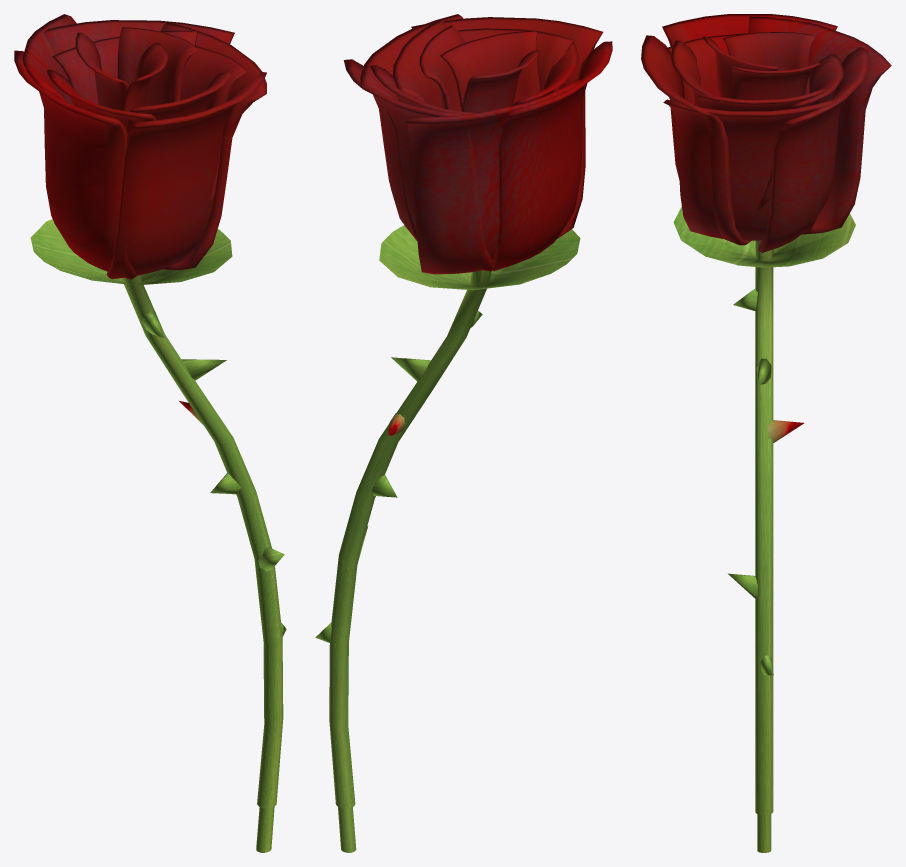
Rendered from item_rose.fbx.
3 views of the same model, side by side, from view 1: azimuth 30°, elevation 25°; view 2: azimuth 150°, elevation 25°; view 3: azimuth 270°, elevation 25° (orthographic). The views are drawn at different scales.
Parts seen in each view (by area): view 1: item_rose; view 2: item_rose; view 3: item_rose.
Boxes of the visible parts, x1=… form: item_rose: x1=14, y1=14, x2=286, y2=852; item_rose: x1=315, y1=14, x2=612, y2=852; item_rose: x1=641, y1=14, x2=891, y2=852.
Size of the model in its own units: 1945 by 5930 by 1806.
Materials: 1 (1 with a texture image).
